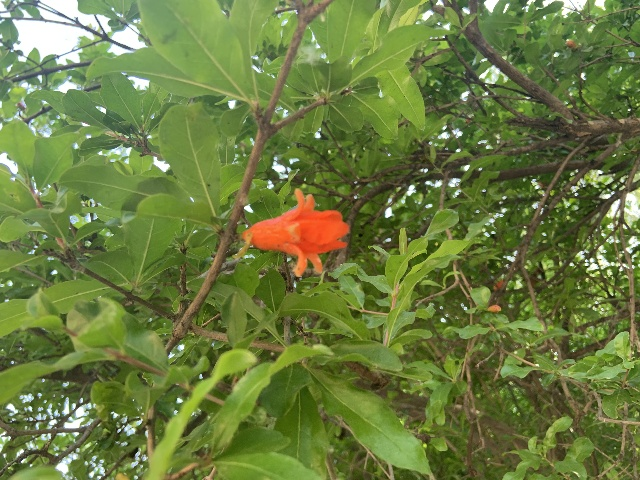bud: (486, 304, 500, 312), (566, 40, 576, 48)
flower: (243, 187, 349, 276)
